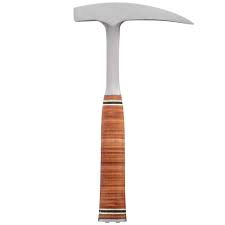hammer: (73, 1, 195, 225)
